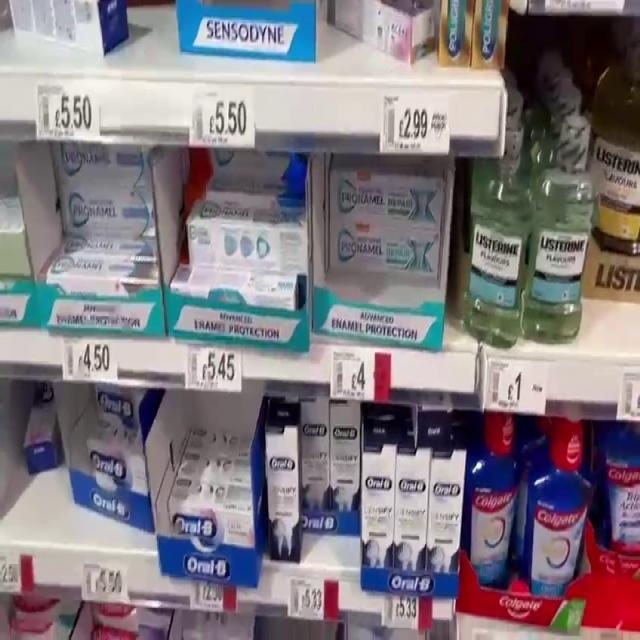Mouthwash: (455, 112, 559, 337), (529, 110, 592, 358), (525, 415, 594, 607), (574, 60, 640, 247), (460, 409, 523, 599), (592, 424, 640, 549)
Other: (169, 471, 256, 547), (262, 422, 308, 564), (395, 442, 435, 600), (427, 451, 465, 603), (361, 436, 398, 581), (81, 424, 151, 499), (328, 394, 363, 532), (295, 396, 333, 522), (16, 385, 65, 475)
Toothpaste: (184, 194, 317, 268), (168, 261, 315, 319), (39, 232, 163, 298), (324, 158, 454, 218), (48, 179, 161, 240), (330, 219, 444, 278)
